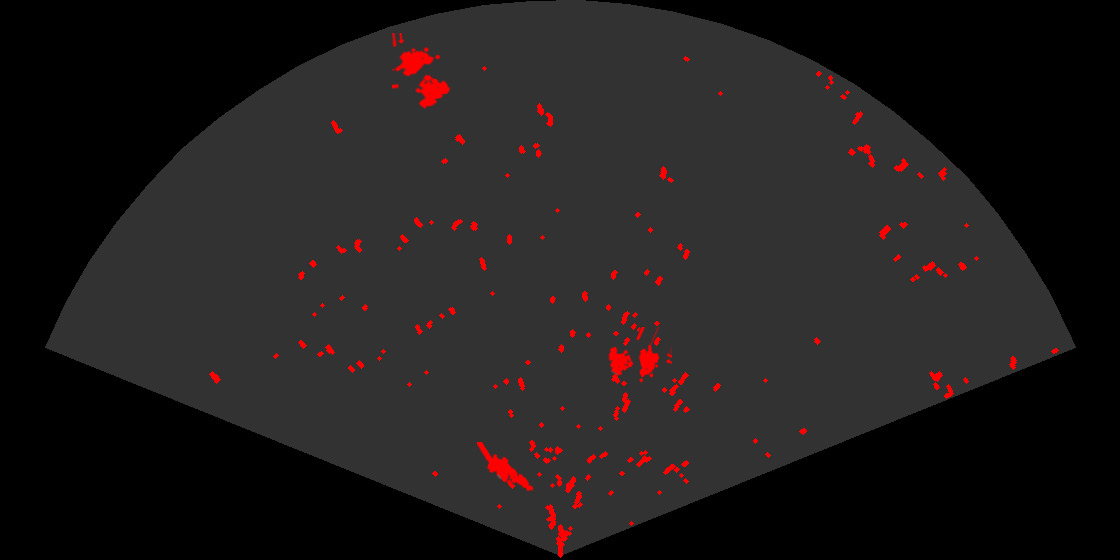cage: (392, 33, 452, 111), (607, 327, 672, 384)
frogman: (477, 442, 535, 493)
